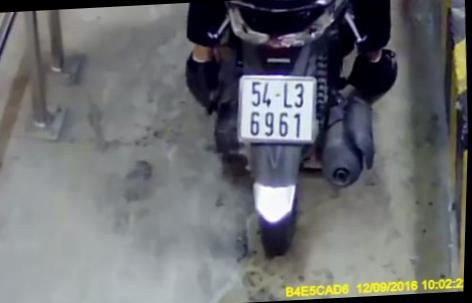LP: (232, 68, 325, 150)
